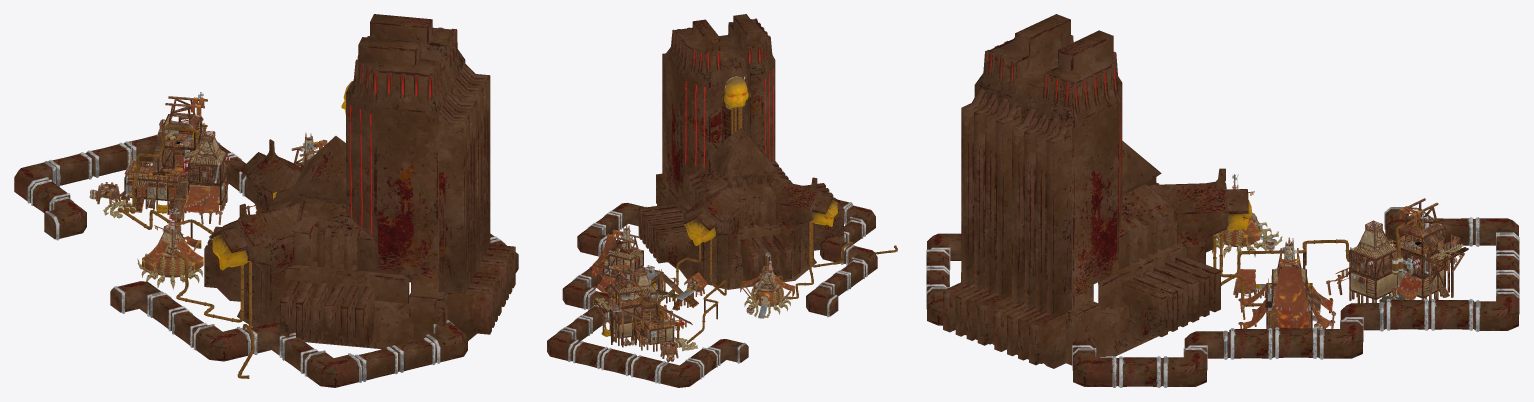
The model's file is modular-fortress.glb.
3 renders of one model, left to right at view 1: azimuth 30°, elevation 25°; view 2: azimuth 150°, elevation 25°; view 3: azimuth 270°, elevation 25°, orthographic. The views are drawn at different scales.
Parts seen in each view (by area): view 1: Object_3, Object_5; view 2: Object_3, Object_5; view 3: Object_3, Object_5.
Part boxes in pixels (box(x1,y1,x2,y2)): Object_3: box(14, 14, 518, 387); Object_5: box(89, 92, 327, 378); Object_3: box(547, 14, 877, 387); Object_5: box(592, 106, 897, 361); Object_3: box(926, 14, 1519, 387); Object_5: box(1212, 174, 1468, 329).
Size of the model in its own units: 0.2712 by 0.2111 by 0.392.
Materials: 3 (3 with a texture image).
